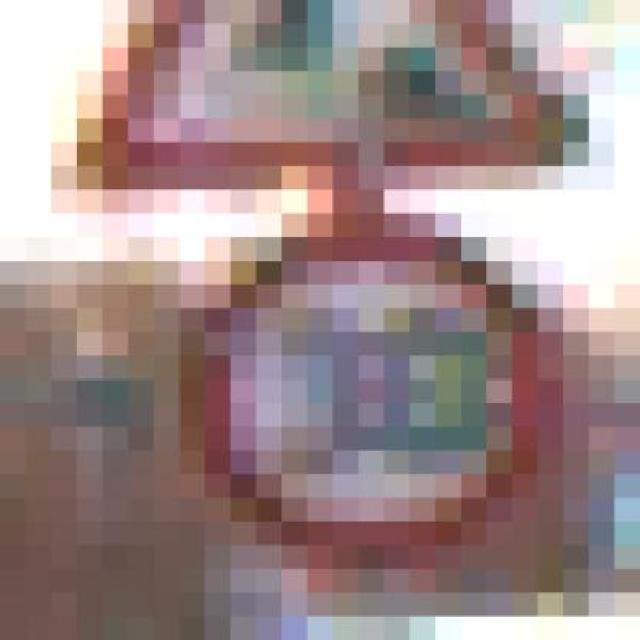Speed Limit 30 KMPh: (102, 213, 615, 569)
